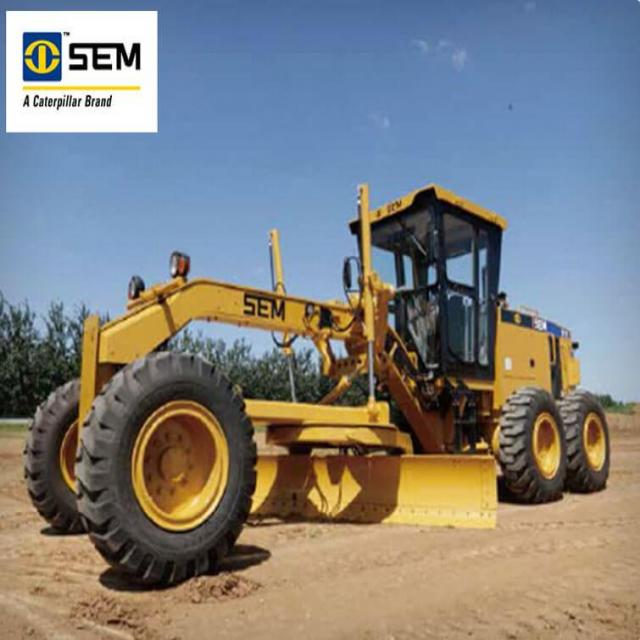Grader: (23, 169, 639, 577)
